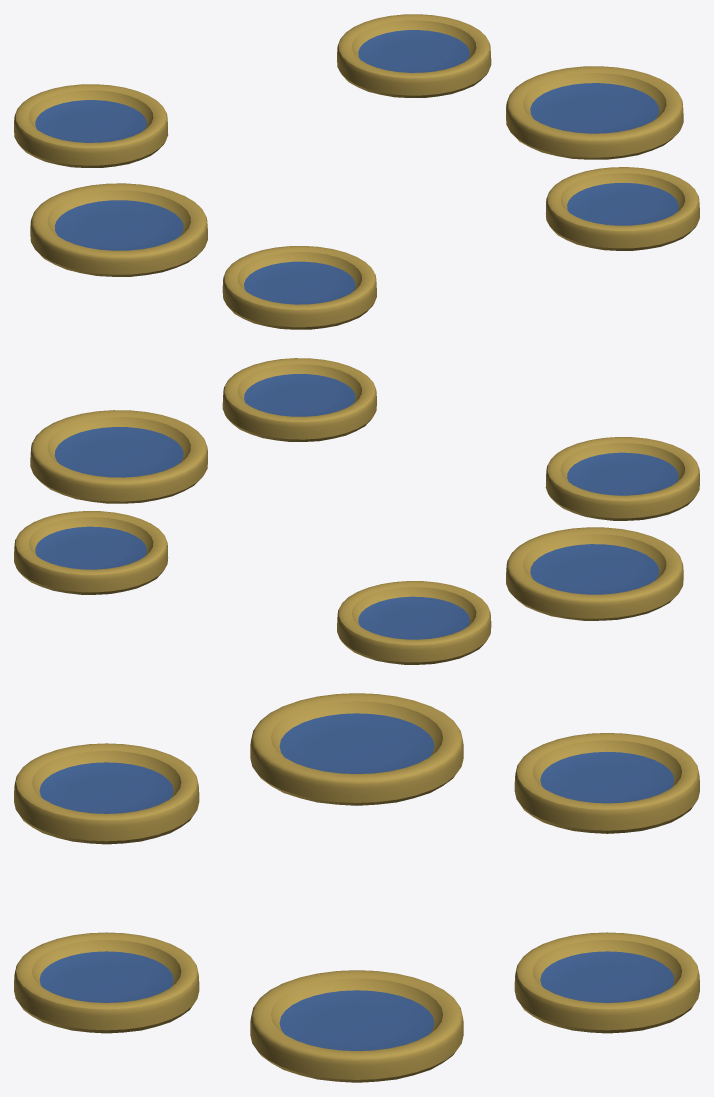
Rendered from Symbol Discs.fbx.
The picture shows the model from 3 angles, top to bottom: view 1: azimuth 30°, elevation 25°; view 2: azimuth 150°, elevation 25°; view 3: azimuth 270°, elevation 25°; orthographic projection. The views are drawn at different scales.
Visible parts, largest first — view 1: Symbol Circle.001, Symbol Circle.004, Symbol Circle, Symbol Circle.003, Symbol Circle.005, Symbol Circle.002; view 2: Symbol Circle.004, Symbol Circle.001, Symbol Circle.002, Symbol Circle.005, Symbol Circle, Symbol Circle.003; view 3: Symbol Circle.001, Symbol Circle.004, Symbol Circle, Symbol Circle.005, Symbol Circle.003, Symbol Circle.002.
Boxes of the visible parts, <box> form: Symbol Circle.001: <box>30,183,207,276</box>; Symbol Circle.004: <box>506,66,683,159</box>; Symbol Circle: <box>222,246,376,329</box>; Symbol Circle.003: <box>337,14,491,97</box>; Symbol Circle.005: <box>545,167,699,250</box>; Symbol Circle.002: <box>14,84,168,167</box>; Symbol Circle.004: <box>30,410,207,503</box>; Symbol Circle.001: <box>506,527,683,620</box>; Symbol Circle.002: <box>337,581,491,664</box>; Symbol Circle.005: <box>222,358,376,441</box>; Symbol Circle: <box>545,437,699,520</box>; Symbol Circle.003: <box>14,511,168,594</box>; Symbol Circle.001: <box>250,693,463,805</box>; Symbol Circle.004: <box>250,970,463,1082</box>; Symbol Circle: <box>14,743,199,844</box>; Symbol Circle.005: <box>14,932,199,1033</box>; Symbol Circle.003: <box>514,932,699,1033</box>; Symbol Circle.002: <box>514,733,699,833</box>.
Size of the model in its own units: 637 by 31.35 by 501.
